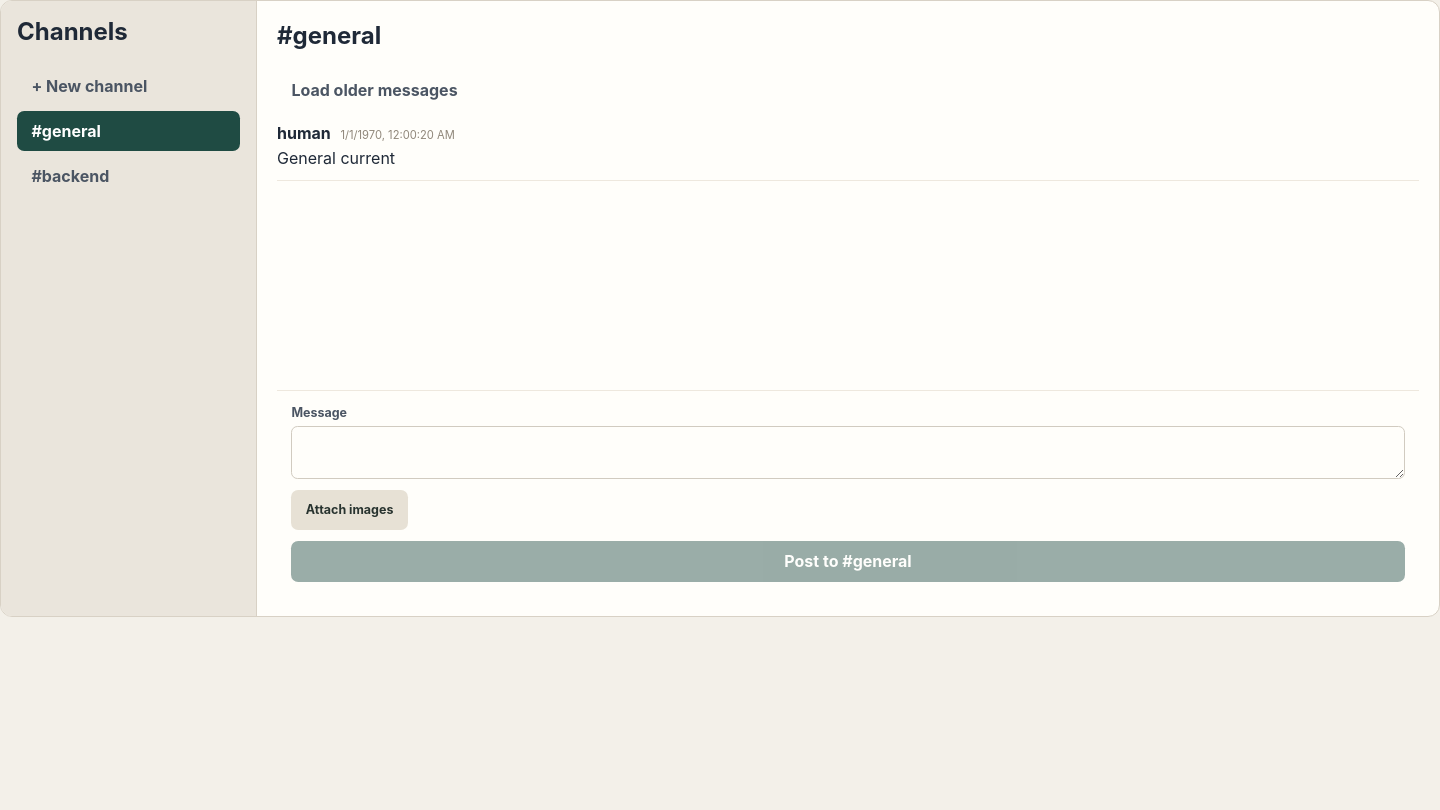
Test case: MessageBoard › ignores an older-page response after switching channels
The width and height of the screenshot is (1440, 810).
Click the button "Load older messages" at (374, 90), box [277,70,472,111]
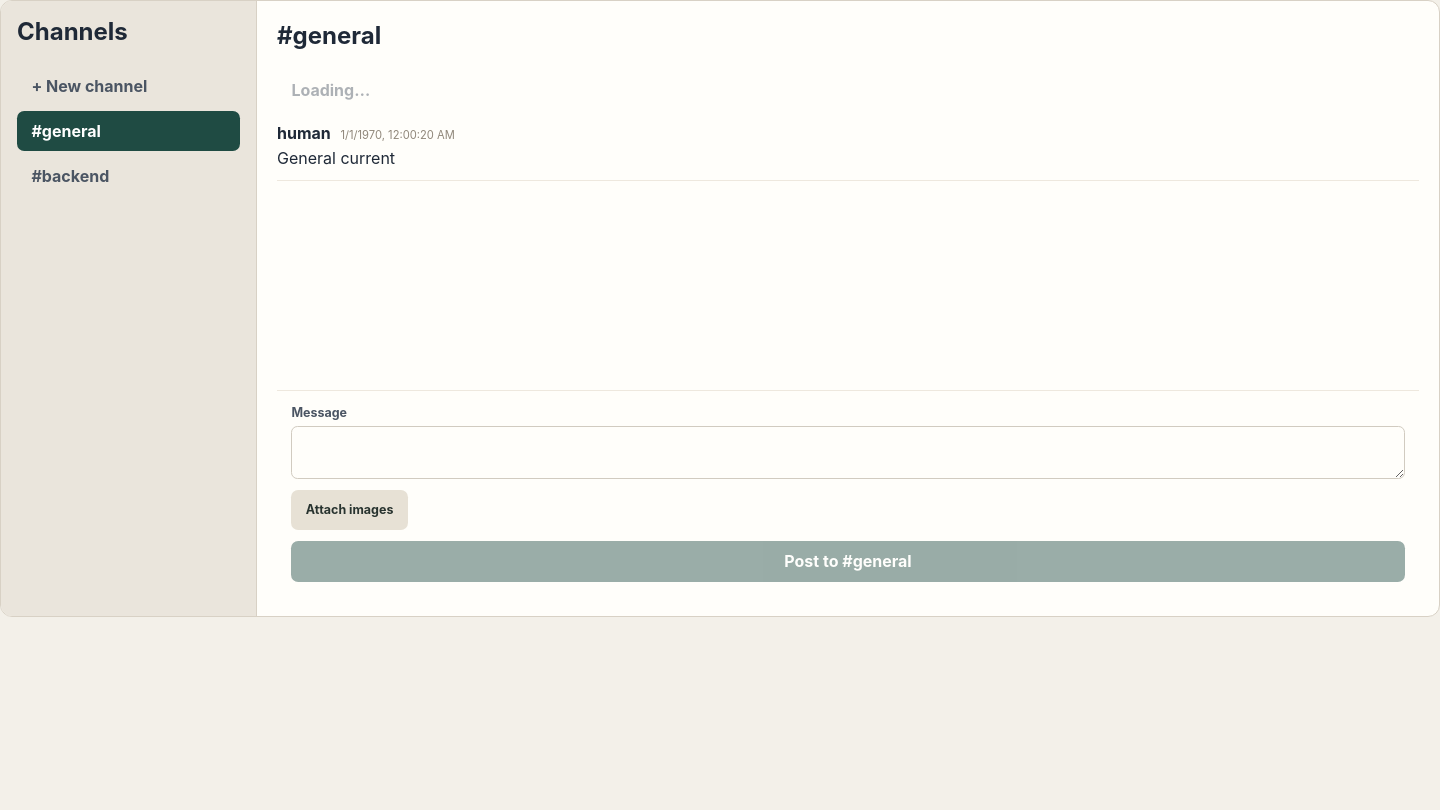
Click the button "#backend" at (128, 176), box [17,156,240,196]
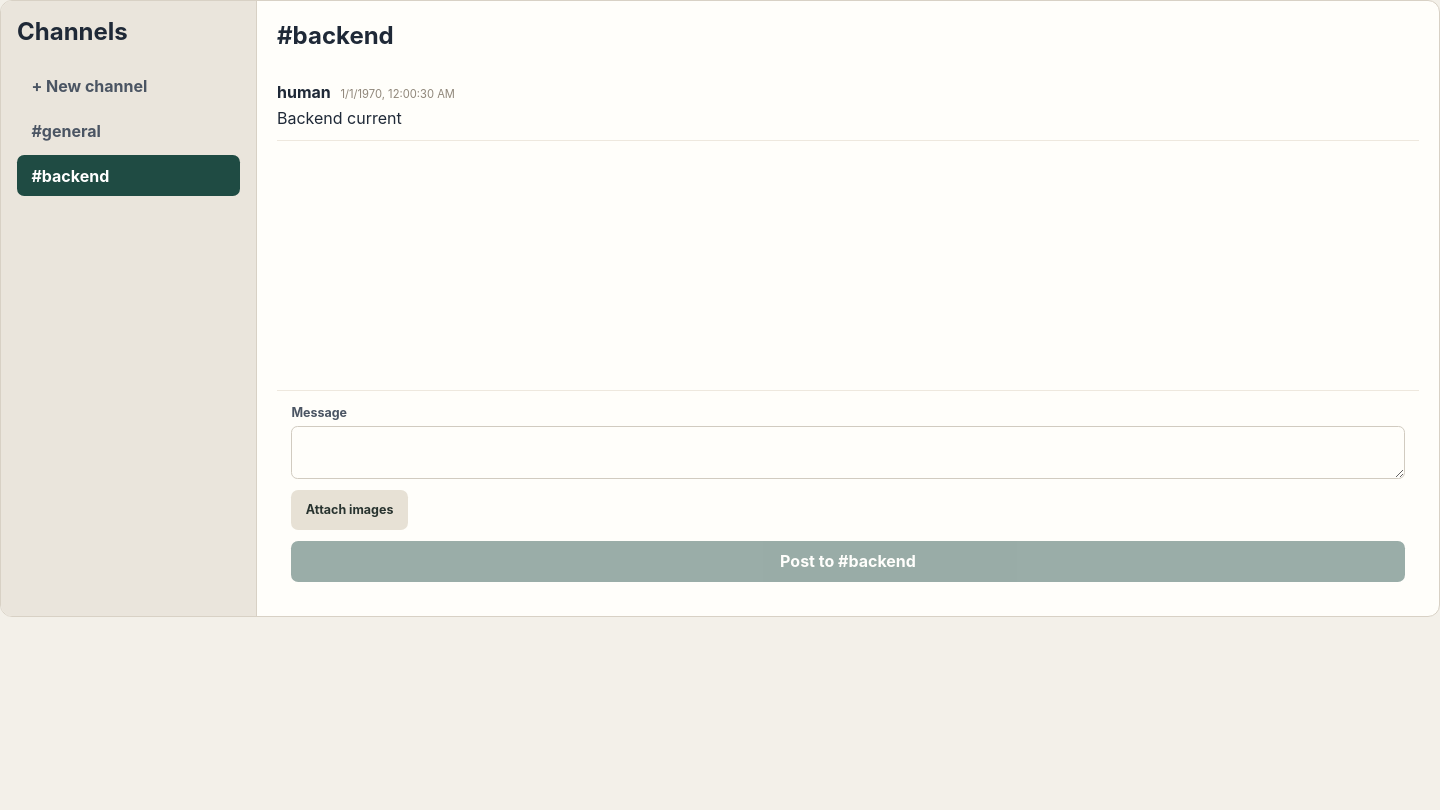
Check: the button "Load older messages" is not shown
Check: the text "Backend current" is shown, box [277,108,402,128]
